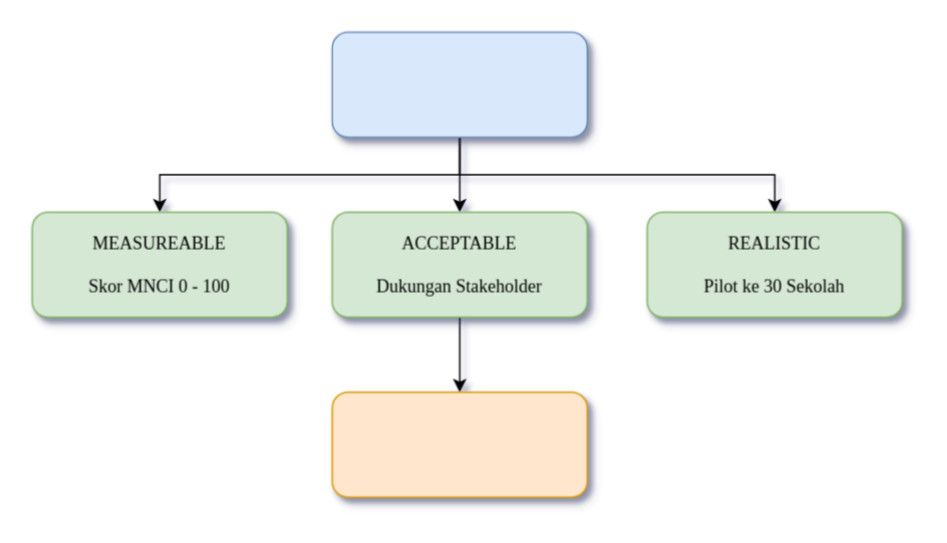
Image size: 947x543. Some labels were removed from this diagram. The shapes that lost their labels are listed below. From the top down, each one's centre as x and y in pixels, then its label:
At (x=460, y=86): "SPECIFIC Evaluasi Nutrisi MBG".
At (x=460, y=446): "TIME-BOUND 12 bulan".
